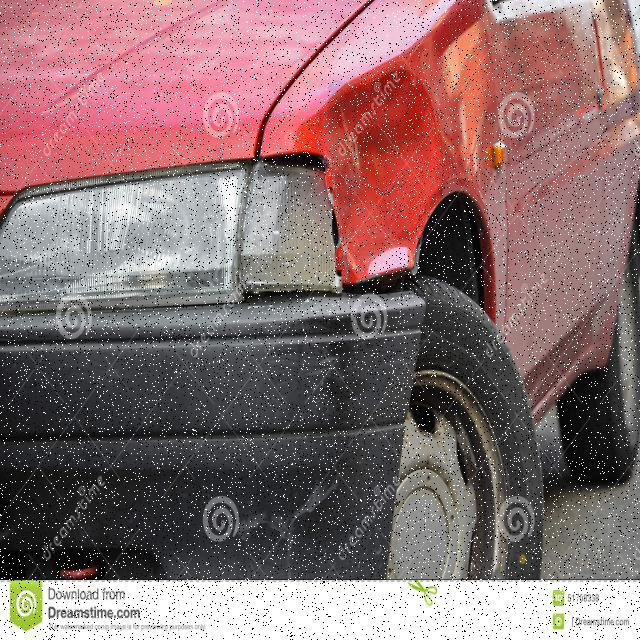fender-dent: (253, 15, 506, 332)
